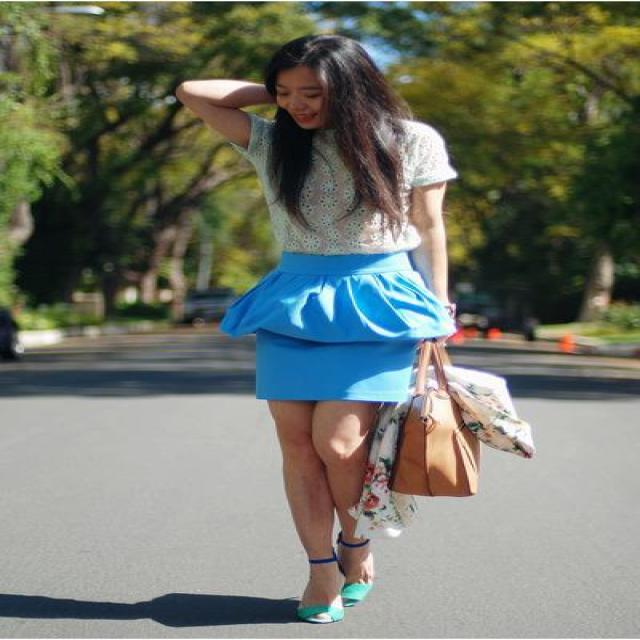bag: (396, 348, 478, 496)
jacket: (356, 371, 526, 528)
shirt: (234, 120, 456, 264)
shoe: (298, 579, 370, 620)
skirt: (221, 252, 456, 403)
